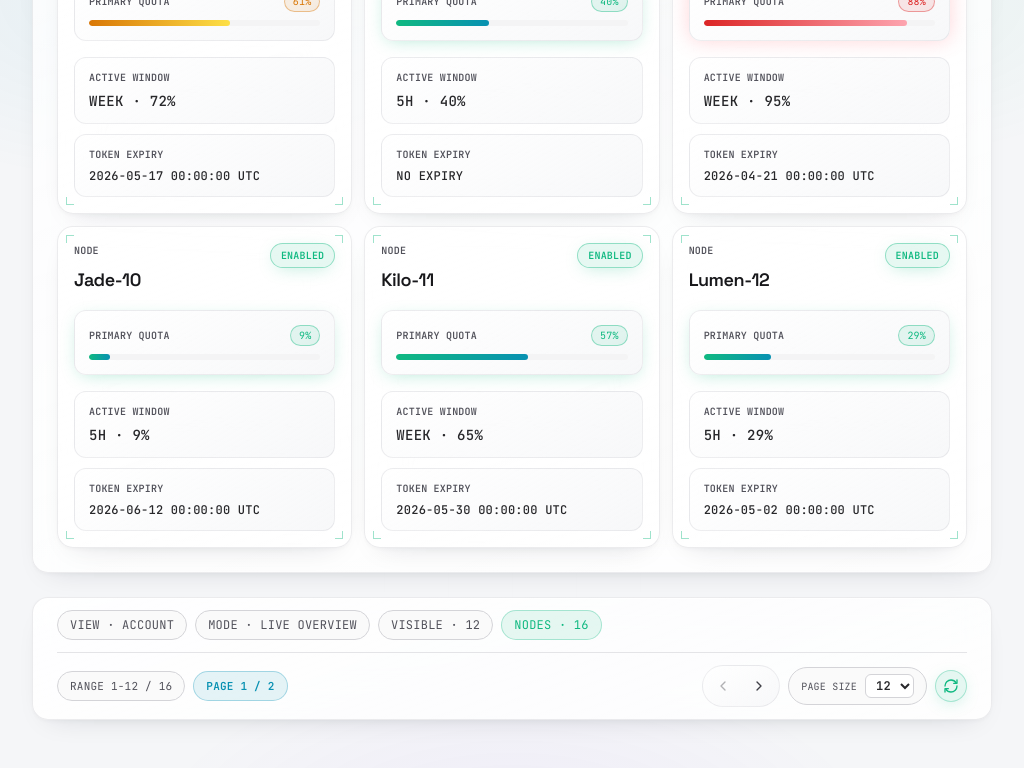
Test: App › resets to the first page when page size changes
(page scrolled)
Click the button named "next" at [759, 686], box [743,670,775,702]
(page scrolled)
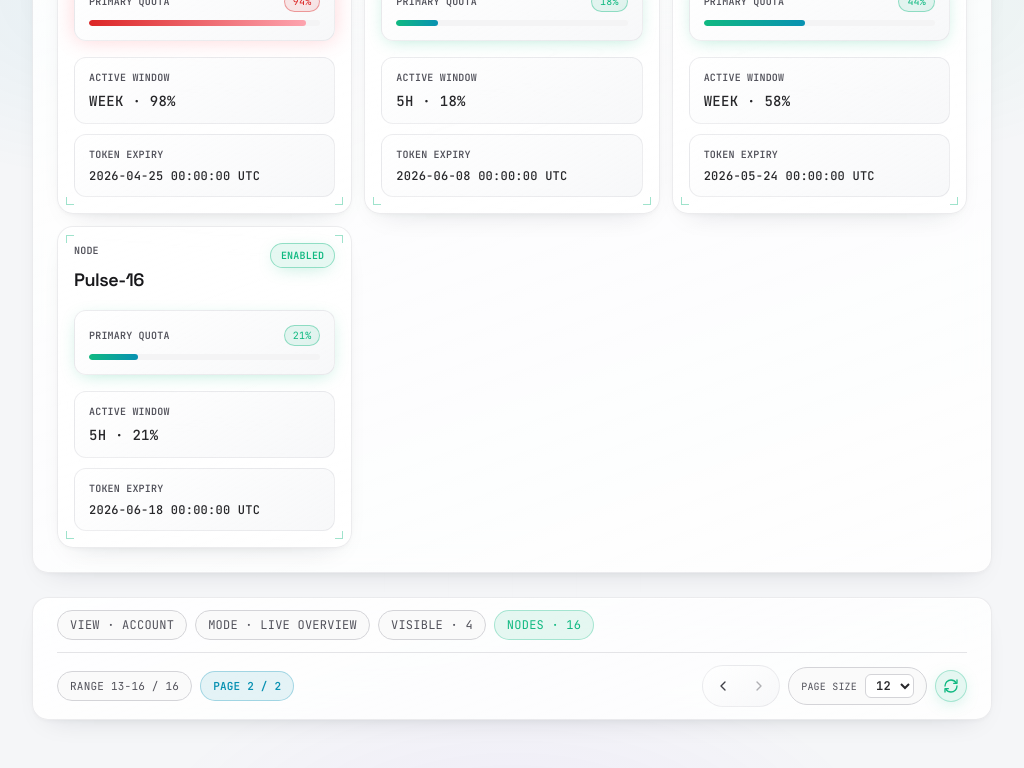
Select "4" in the dropdown labelled "PAGE SIZE" at [890, 686], box [865,674,914,698]
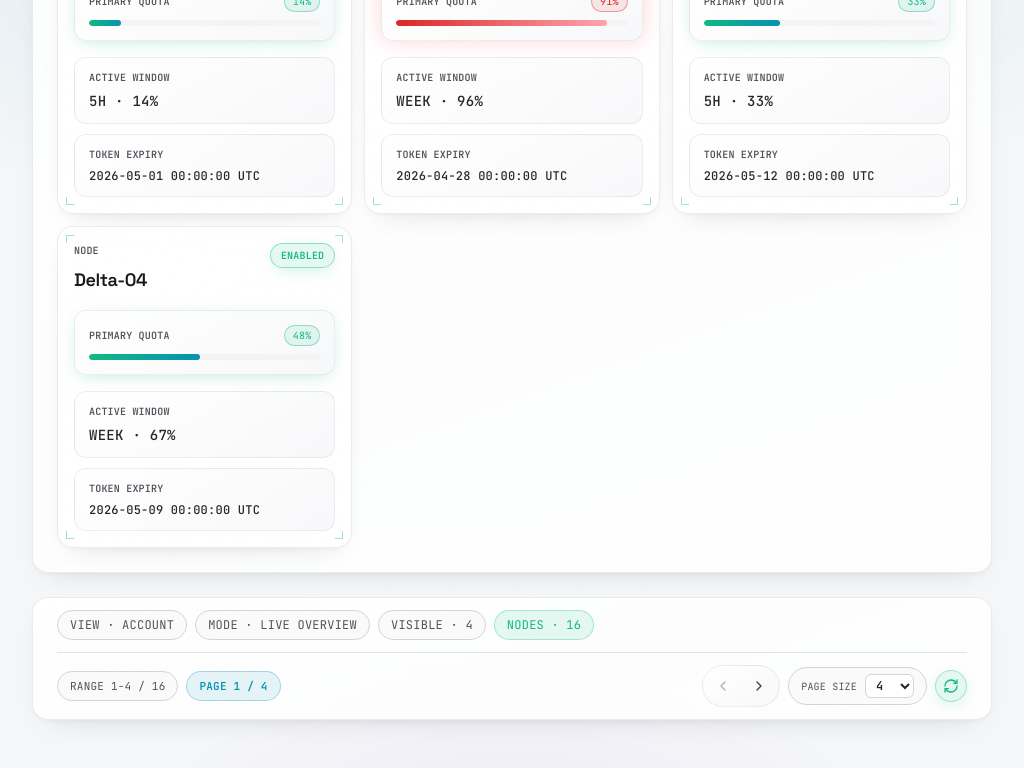
Now the heading "Delta-04" is shown, box [74,266,147,294]
Now the text "RANGE 1-4 / 16" is shown, box [57,671,178,701]
Now the text "PAGE 1 / 4" is shown, box [186,671,281,701]
